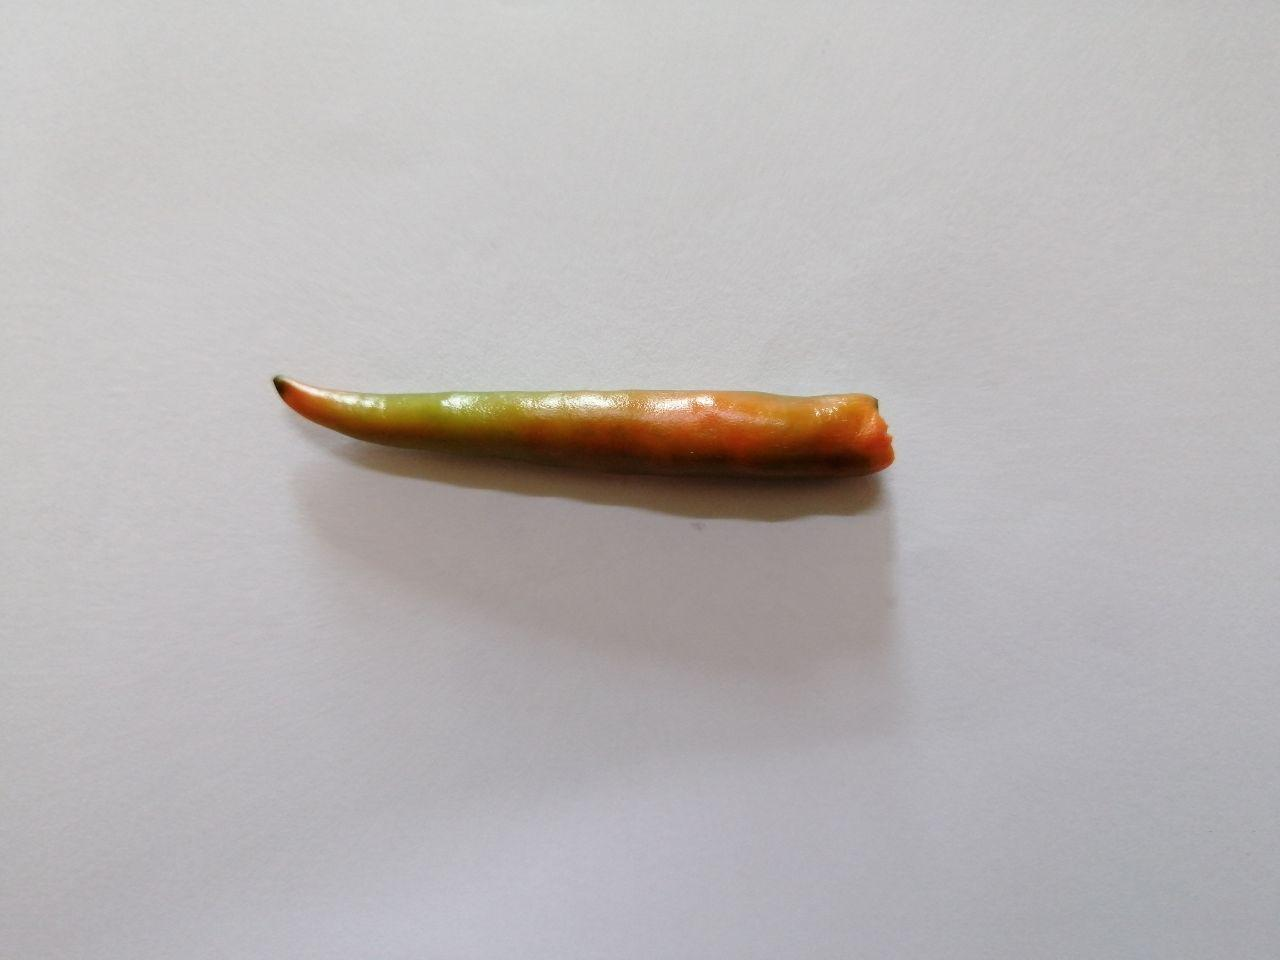lada kuning: (235, 344, 938, 509)
